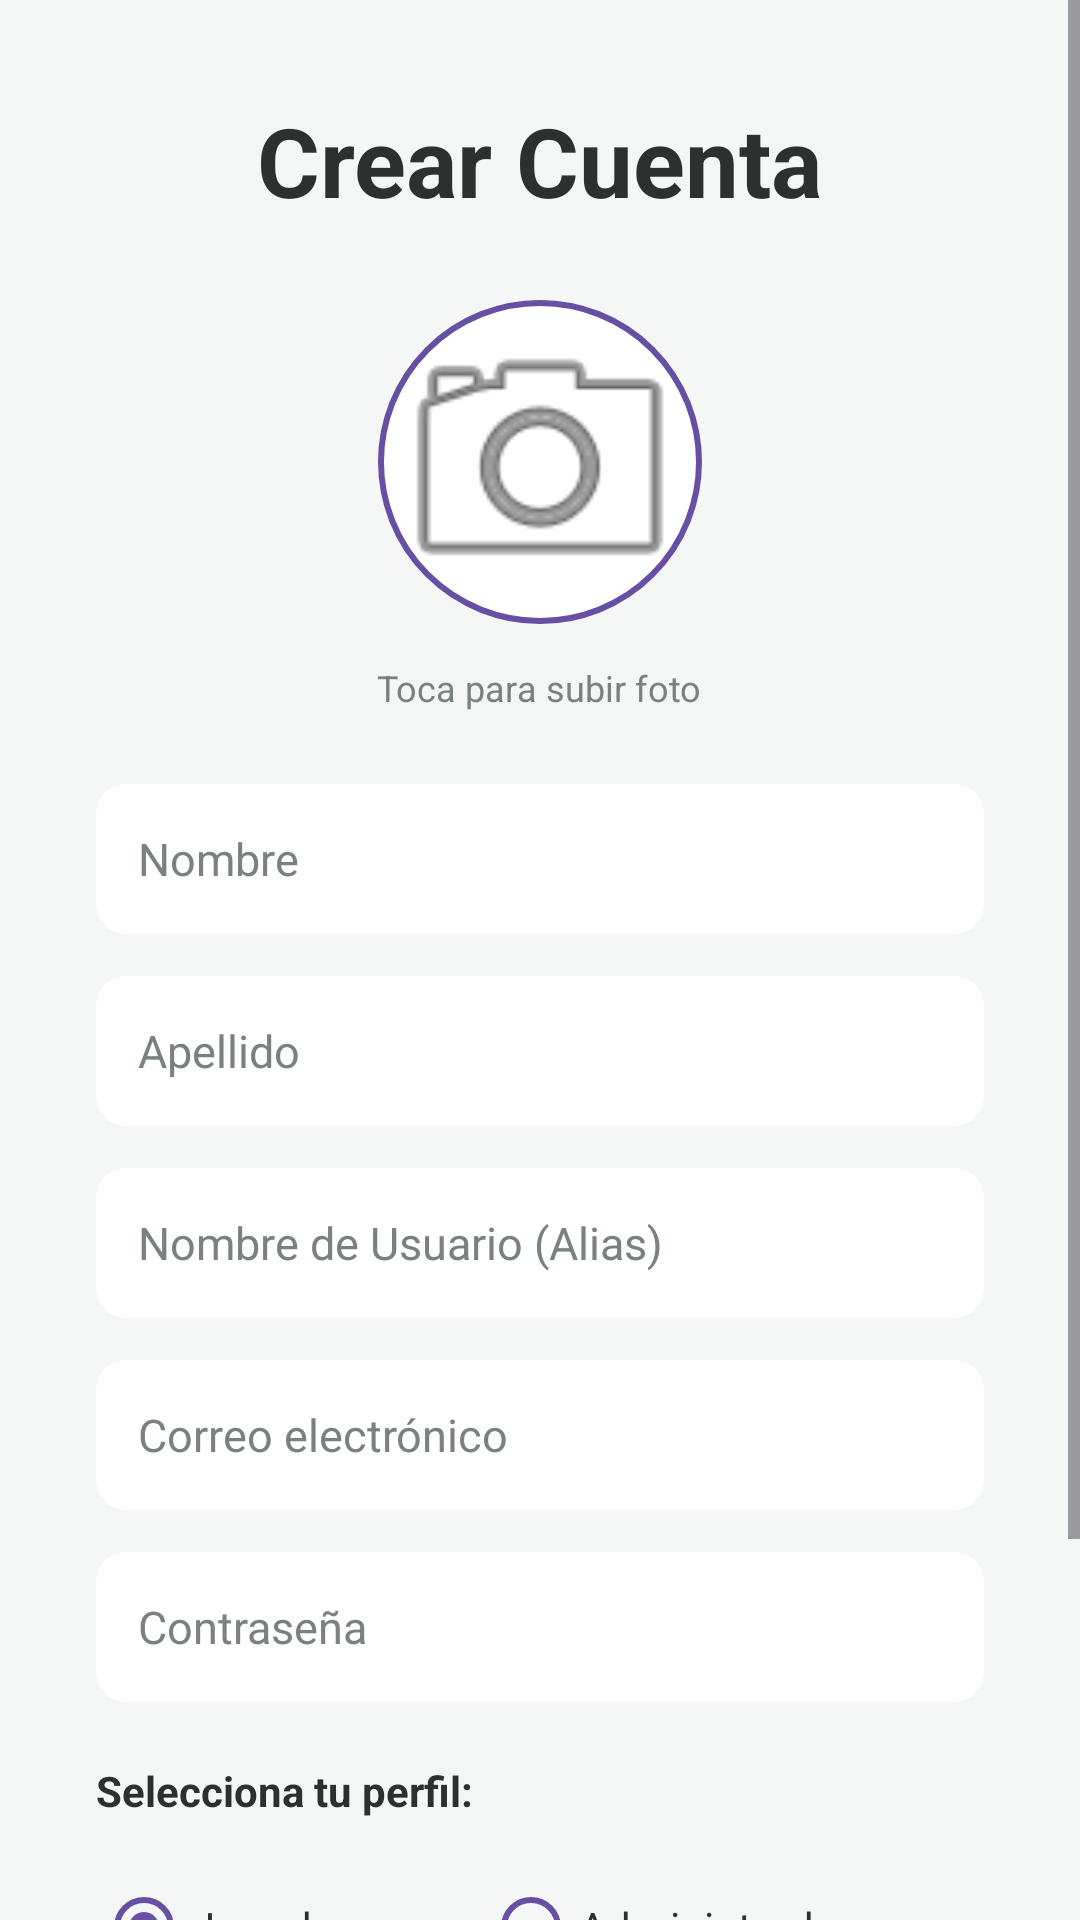

Locate icon controls on the screen. Image size 1080px x 1920px, boxes as bbox=(x1, y1, x2, y2).
camera: bbox=(378, 300, 702, 624)
